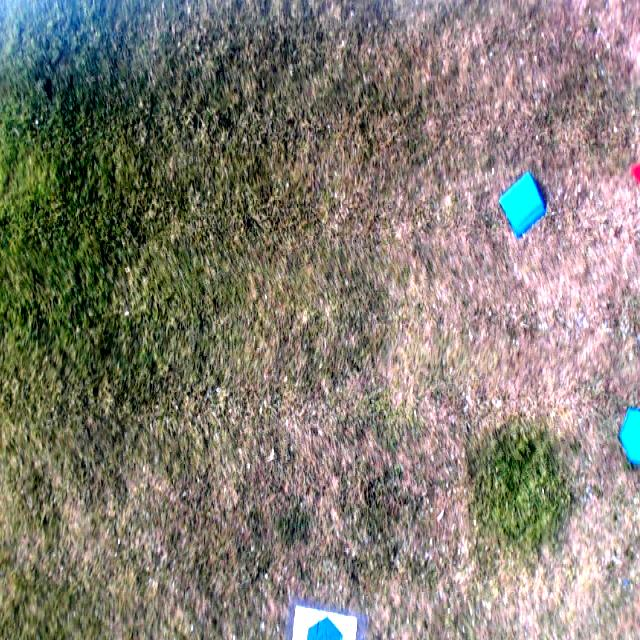blue_square: (501, 174, 546, 238)
